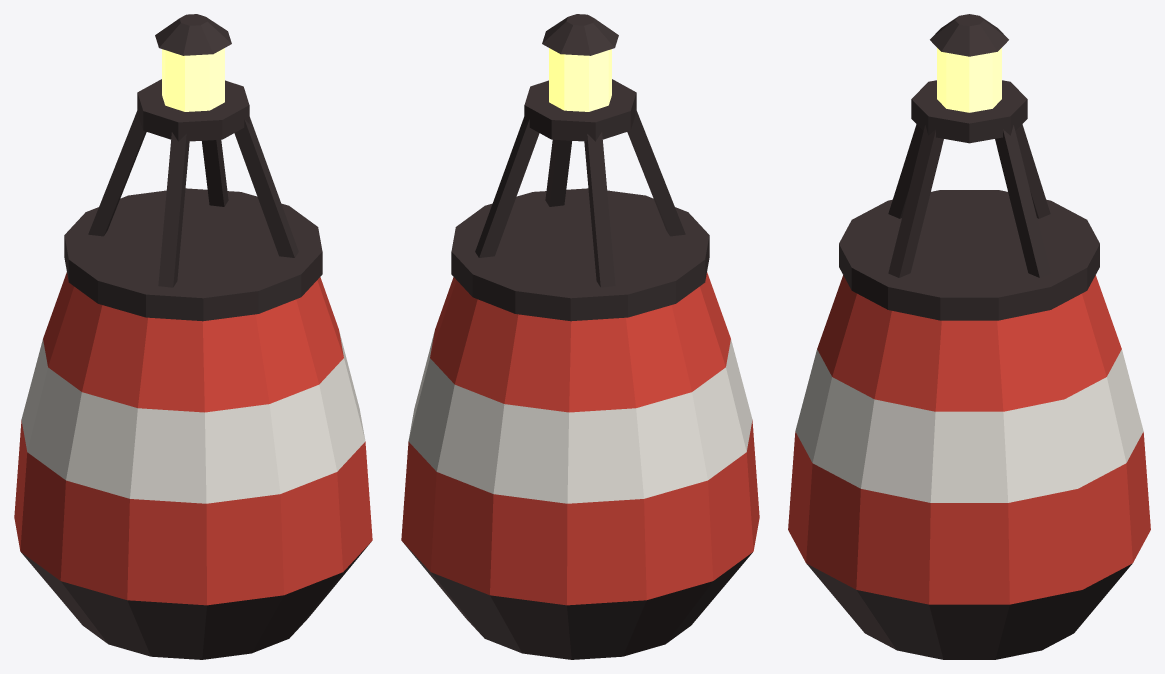
File: buoy.glb
The picture shows the model from 3 angles, left to right: view 1: azimuth 30°, elevation 25°; view 2: azimuth 150°, elevation 25°; view 3: azimuth 270°, elevation 25°; orthographic projection.
Visible parts, largest first — view 1: buoy; view 2: buoy; view 3: buoy.
Part boxes in pixels (box(x1,y1,x2,y2)): buoy: box(14, 14, 372, 659); buoy: box(401, 14, 759, 659); buoy: box(788, 14, 1150, 659).
Bounding box in the file's own units: 0.9749 × 1.8 × 1.
